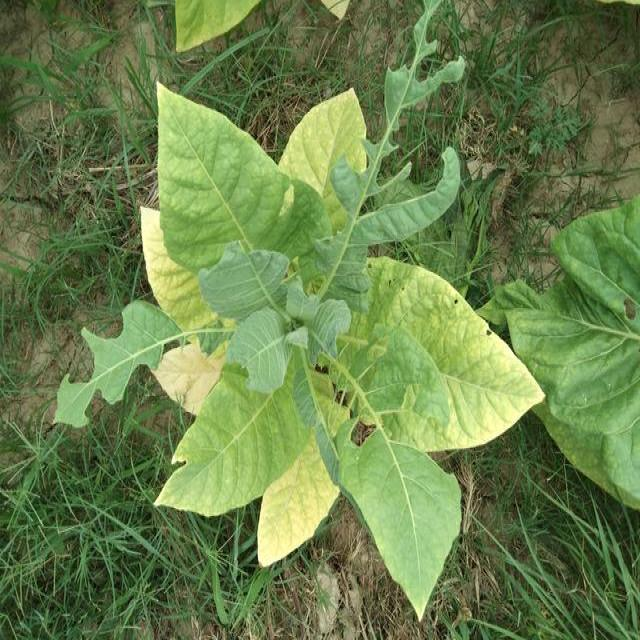crop: (122, 58, 547, 624)
